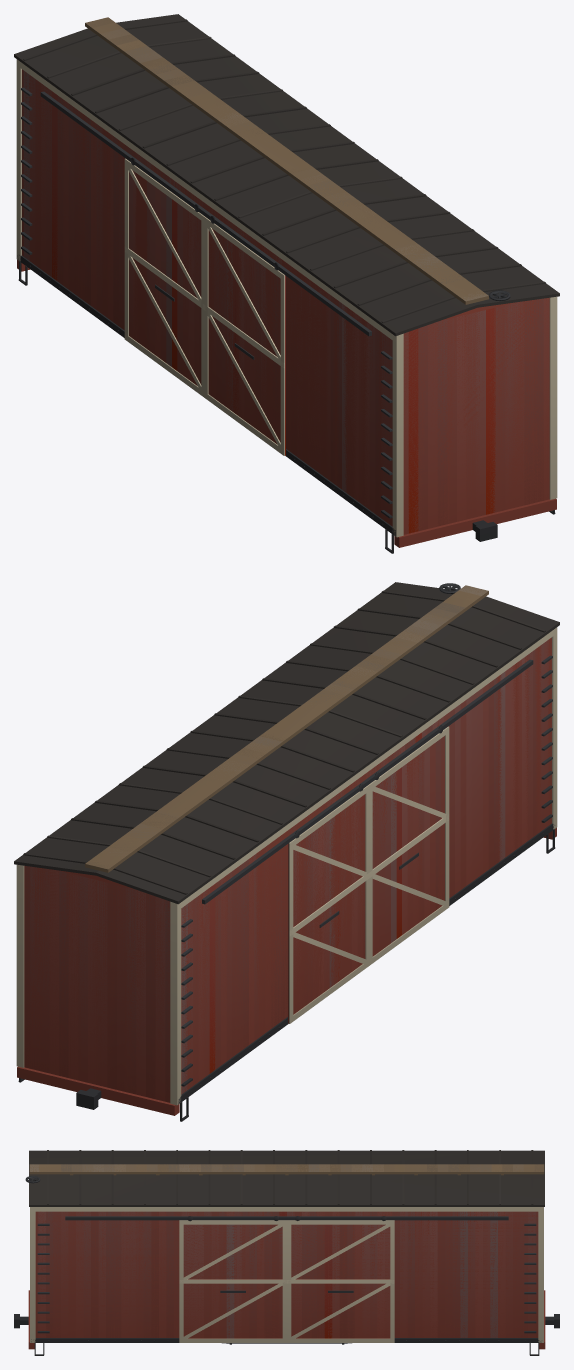
The picture shows the model from 3 angles, top to bottom: view 1: azimuth 30°, elevation 25°; view 2: azimuth 150°, elevation 25°; view 3: azimuth 270°, elevation 25°; orthographic projection. The views are drawn at different scales.
Parts seen in each view (by area): view 1: Body, Far, Door_LB, Door_LF; view 2: Body, Far, Door_LB, Door_LF; view 3: Body, Far, Door_RB, Door_RF.
Boxes of the visible parts, box(x1,y1,x2,y2) form: Body: box(14, 14, 559, 553); Far: box(22, 18, 549, 534); Door_LB: box(204, 216, 285, 455); Door_LF: box(124, 157, 204, 397); Body: box(14, 582, 559, 1121); Far: box(24, 584, 551, 1101); Door_LB: box(369, 725, 449, 965); Door_LF: box(288, 784, 369, 1023); Body: box(14, 1150, 559, 1355); Far: box(26, 1164, 543, 1338); Door_RB: box(179, 1216, 286, 1342); Door_RF: box(287, 1216, 394, 1342).
Size of the model in its own units: 6 by 8.27 by 25.36.
